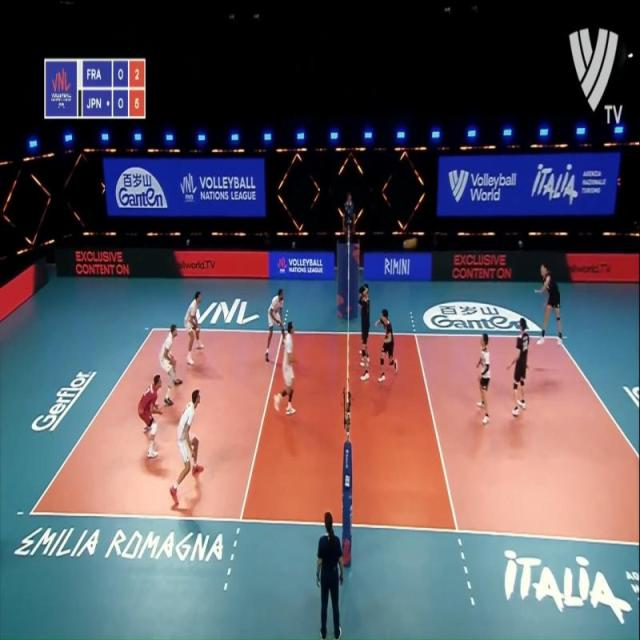volleyball: (402, 237, 419, 249)
